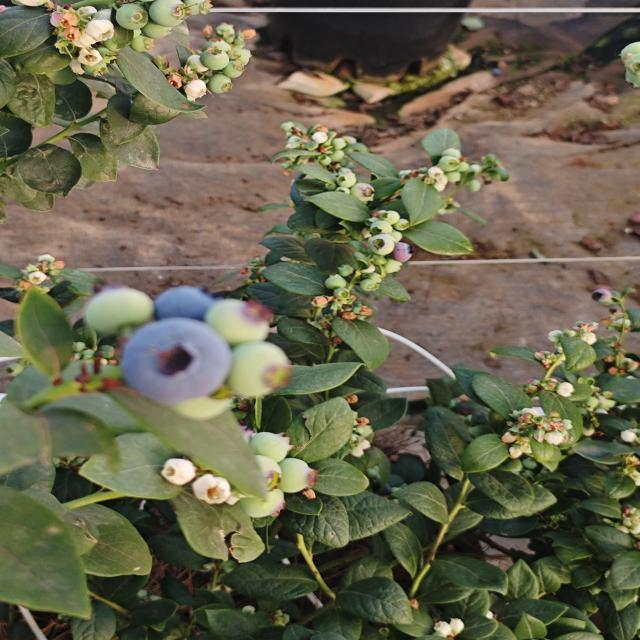ripe: (122, 308, 231, 393), (156, 286, 209, 323)
